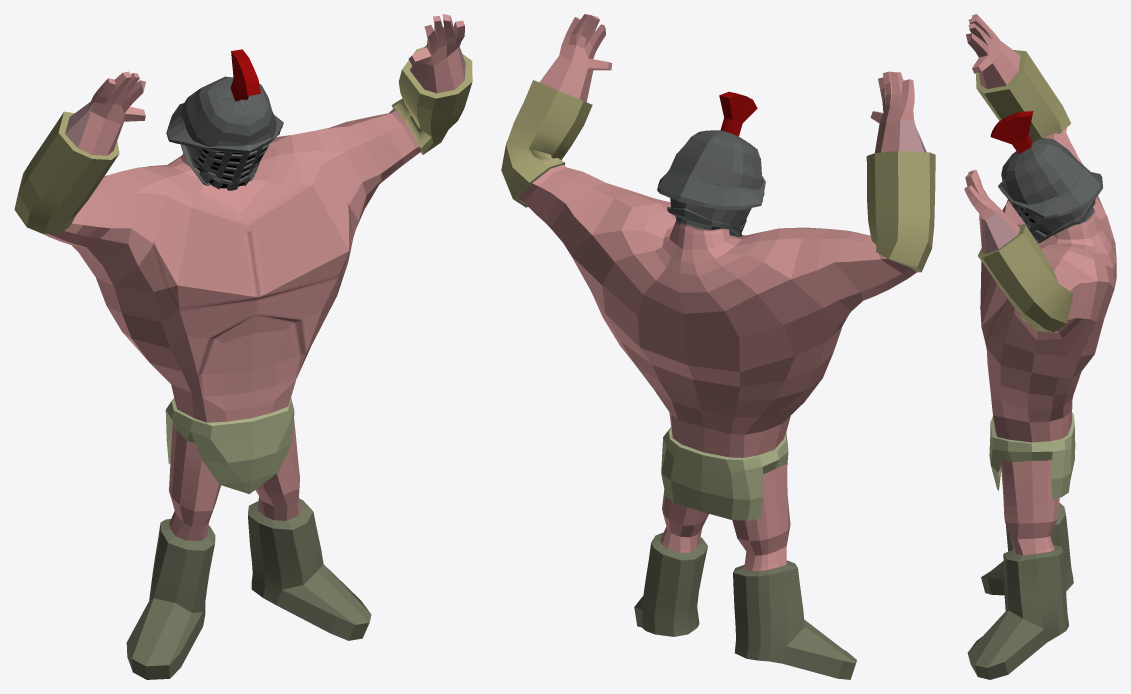
Rendered from GladiatorCelebracion_000571.obj.
The picture shows the model from 3 angles, left to right: view 1: azimuth 30°, elevation 25°; view 2: azimuth 150°, elevation 25°; view 3: azimuth 270°, elevation 25°; orthographic projection. The views are drawn at different scales.
Visible parts, largest first — view 1: Gadiador_Gladiador_H; view 2: Gadiador_Gladiador_H; view 3: Gadiador_Gladiador_H.
Part boxes in pixels (x1=…): Gadiador_Gladiador_H: x1=14, y1=14, x2=472, y2=679; Gadiador_Gladiador_H: x1=501, y1=14, x2=935, y2=679; Gadiador_Gladiador_H: x1=964, y1=14, x2=1116, y2=679.
Bounding box in the file's own units: 5.9 × 8.03 × 2.
1 material, 1 textured.
